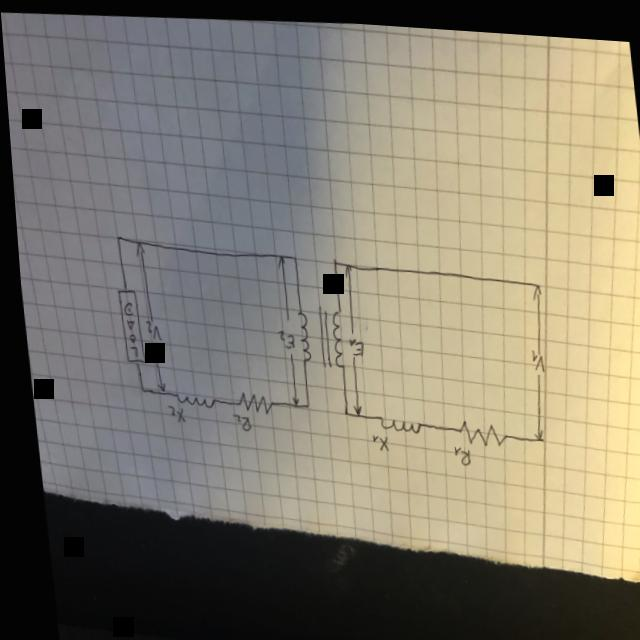inductor: (371, 410, 415, 429), (169, 389, 209, 407)
junction: (326, 250, 335, 263), (110, 230, 119, 243), (295, 394, 304, 404), (132, 383, 141, 392), (335, 402, 342, 412), (286, 249, 293, 259)
resistor: (111, 284, 140, 365), (450, 410, 502, 442), (230, 388, 266, 412)
terminal: (527, 272, 539, 288), (527, 425, 537, 436)
text: (117, 299, 134, 356), (271, 323, 290, 347), (139, 316, 157, 340), (160, 399, 179, 421), (224, 409, 244, 429), (524, 340, 540, 365), (364, 425, 382, 447), (341, 332, 359, 353), (446, 438, 464, 459)
transformer: (289, 300, 343, 368)
